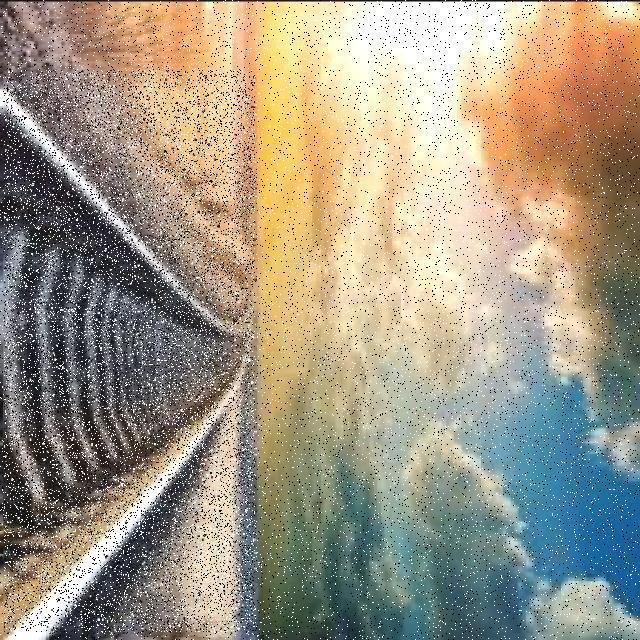rail: (6, 72, 256, 633)
